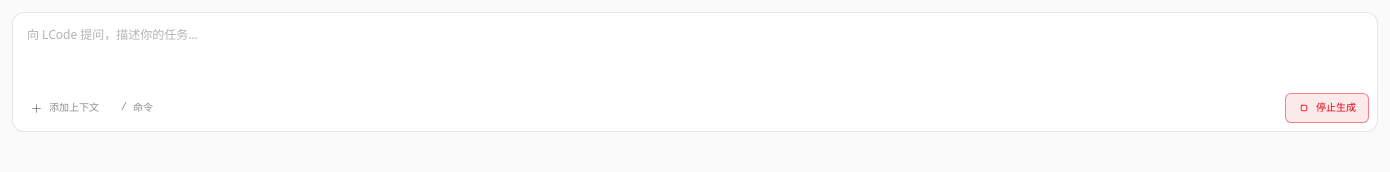
Test case: Composer · 发送与停止（AC-001-1/2/4） › 停止返回其他错误：仍如实提示「停止失败（code）」且不收敛运行态（F12 不吞真失败）
The width and height of the screenshot is (1390, 172).
What coordinates should you click on to do the following:
click the button with test id "composer-stop"
I would click on:
 (1327, 108)
Its box is [1285,93,1369,123].
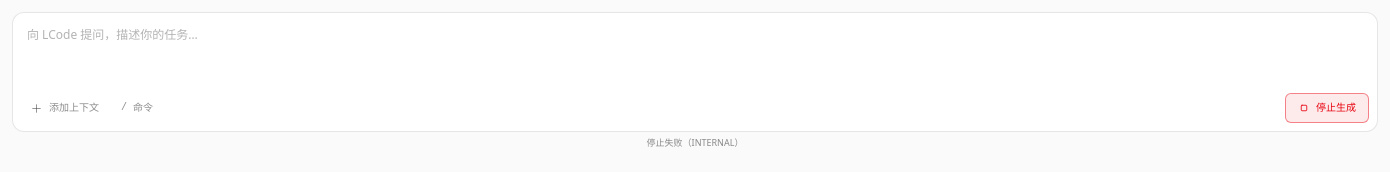
Result: the text with test id "composer-hint" reads "停止失败（INTERNAL）" at [647,136,743,149]
